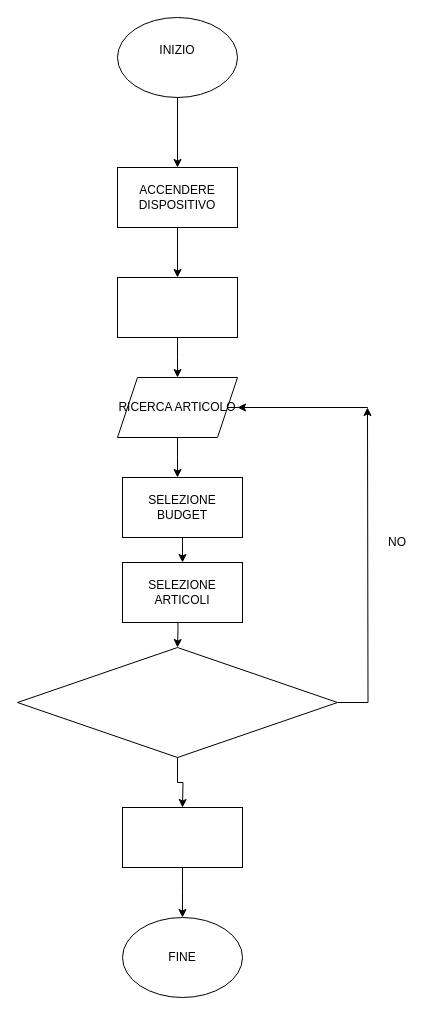
Image size: 445x1015. Some labels were removed from this diagram. The shapes that lost their labels are listed below. From the top down, each one's centre as x and y in pixels, then its label:
(x=177, y=307): APRIRE APPLICAZIONE AMAZON
(x=177, y=702): SE È PRIME and NON SUPERA IL BUDGET
(x=182, y=837): CARRELLO
